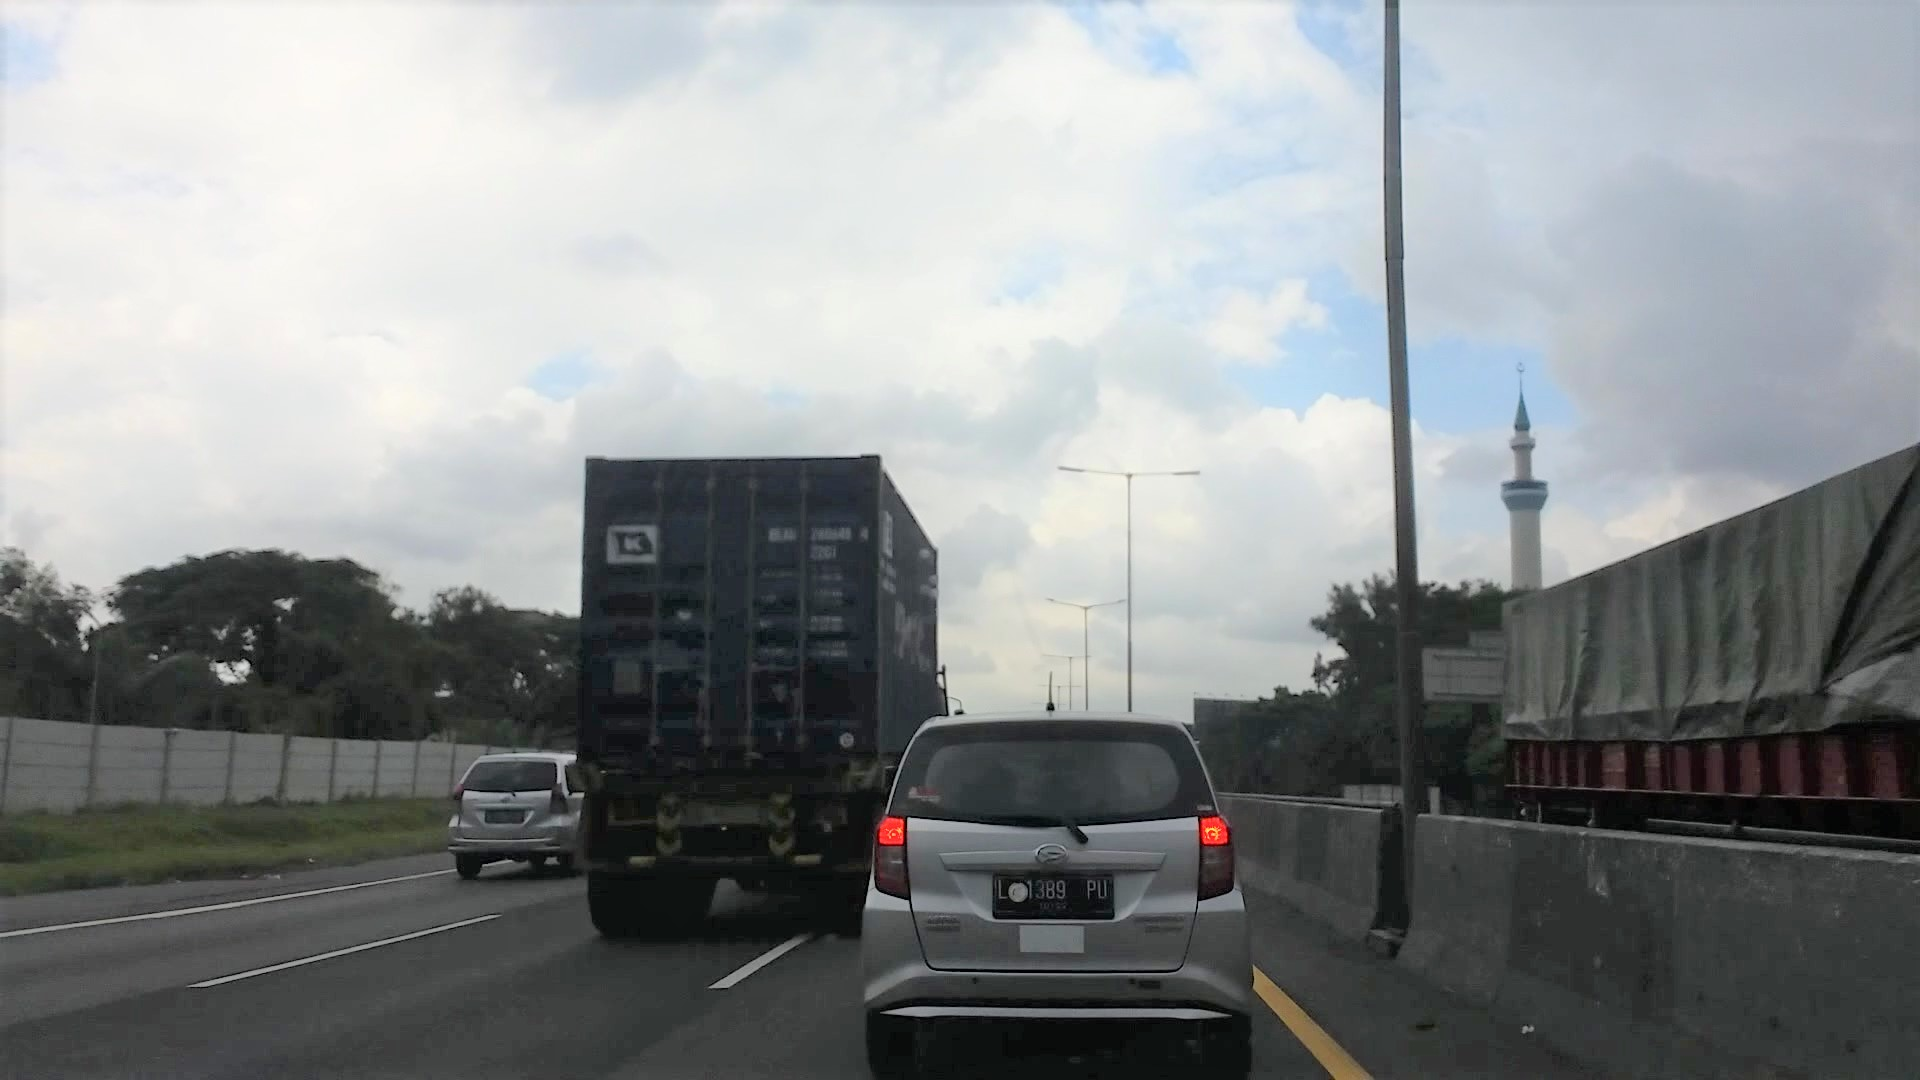plate_positive: (992, 872, 1114, 919)
